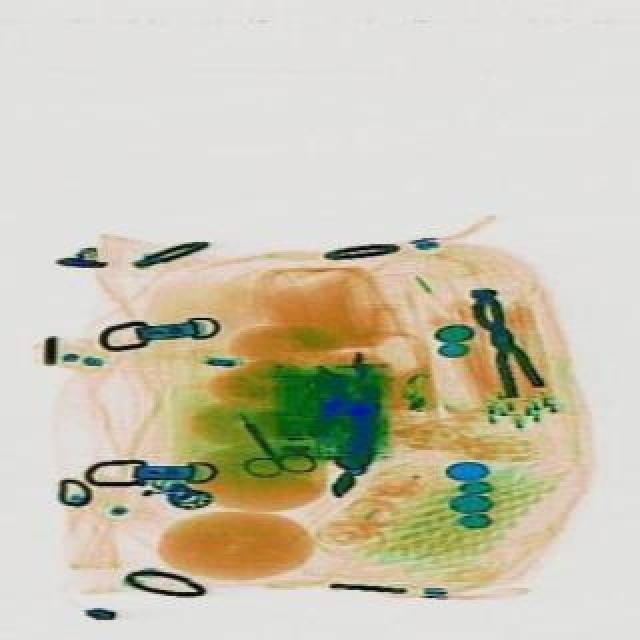pliers: (218, 406, 314, 498)
